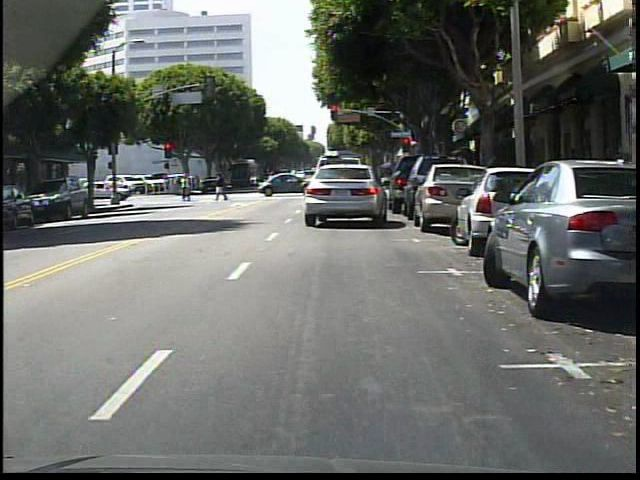person: (215, 172, 229, 201), (180, 174, 194, 200), (270, 171, 278, 191)
